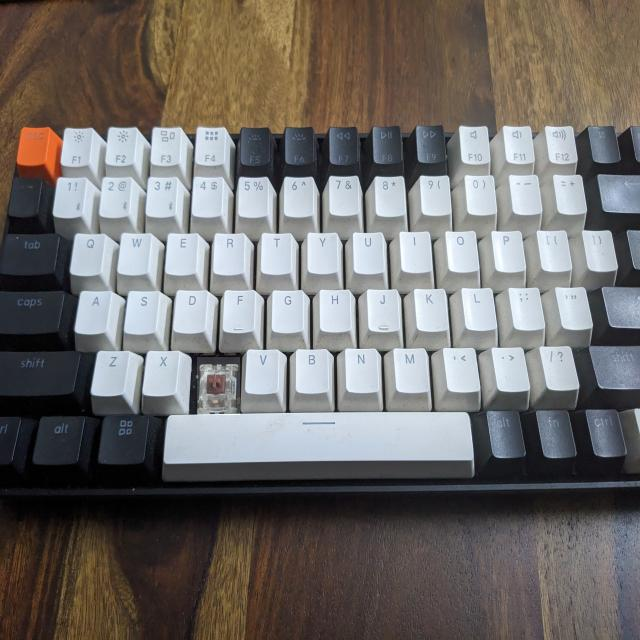C: (197, 357, 240, 415)
